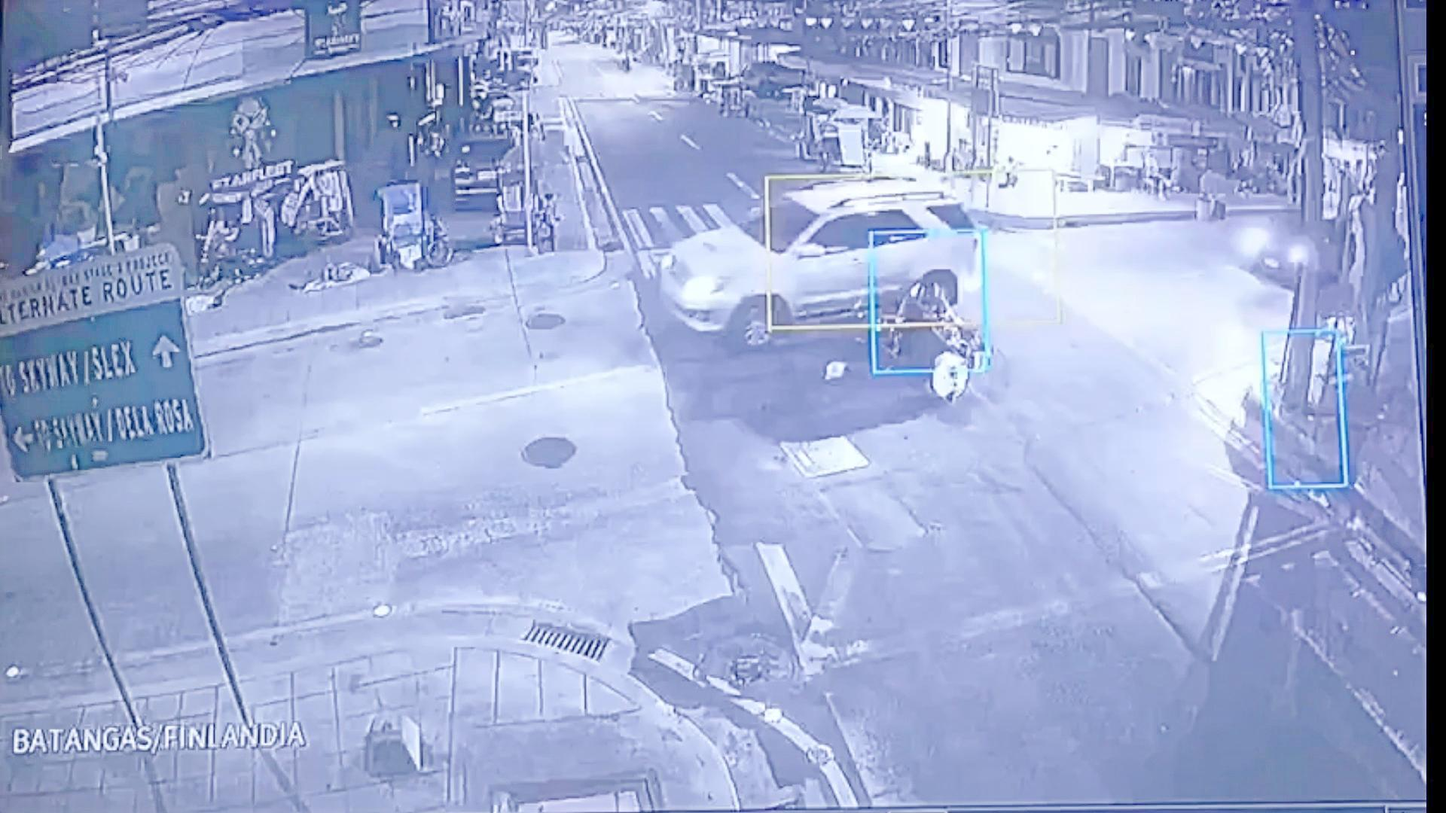Car: (662, 169, 988, 354)
Minor Accident: (661, 164, 997, 406)
Motor: (884, 263, 988, 404)
